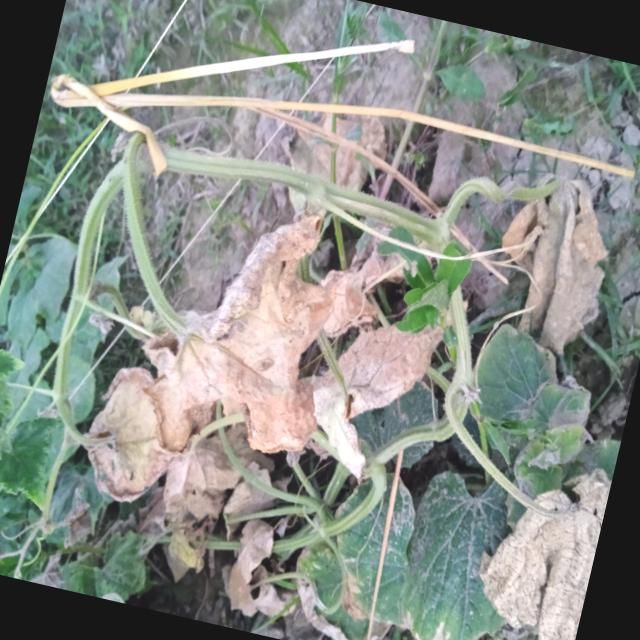cucumber_bacterial: (132, 187, 416, 481), (461, 152, 630, 346), (454, 442, 614, 640), (395, 467, 533, 640), (295, 471, 433, 640), (62, 362, 202, 508), (192, 481, 302, 620)
